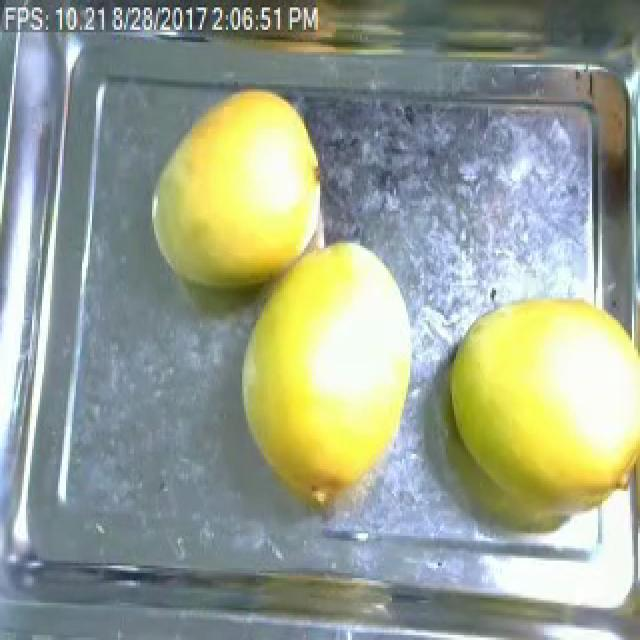fruit: (226, 228, 424, 528), (426, 288, 640, 556), (138, 79, 332, 303)
